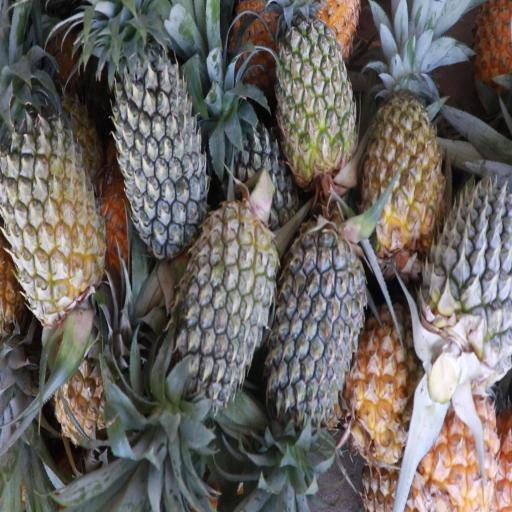------------------------------: (0, 107, 107, 312), (278, 12, 355, 176)
Pineapple - v8 v1: (352, 290, 442, 460), (365, 75, 447, 252), (52, 311, 147, 450), (418, 387, 500, 512)
